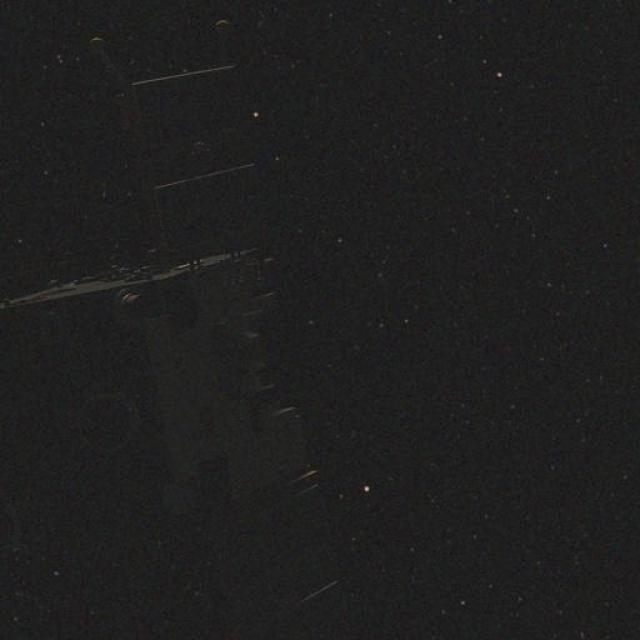proba_2: (46, 68, 315, 461)
